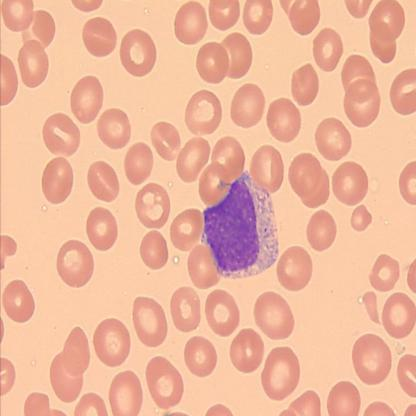Myelocyte: (203, 171, 278, 278)
